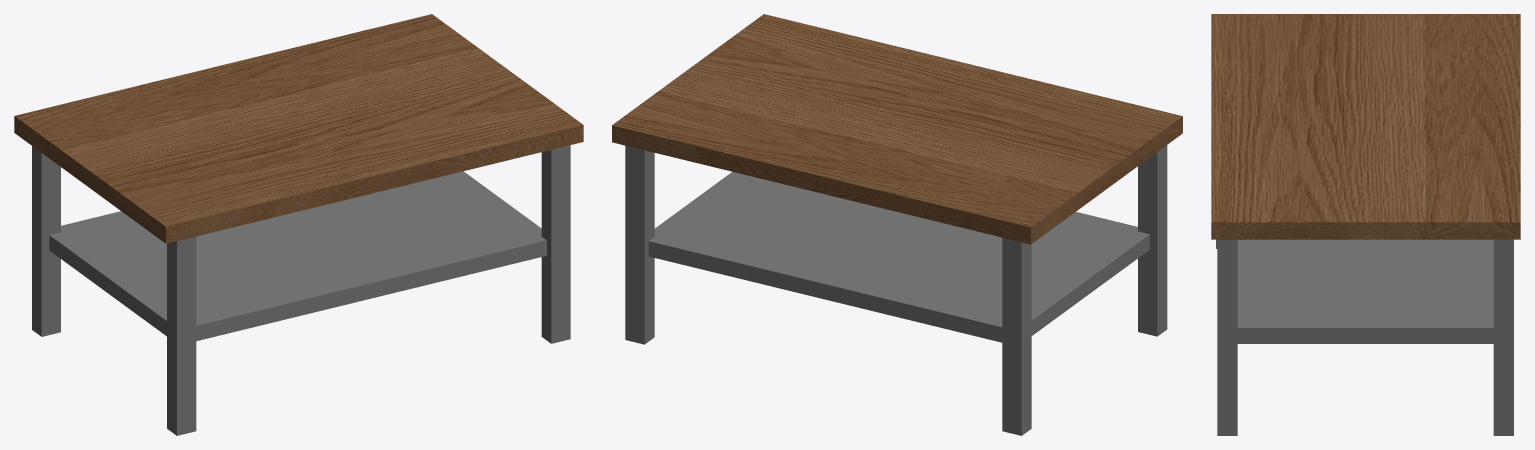
Rendered from BasicTable.fbx.
3 views of the same model, side by side, from view 1: azimuth 30°, elevation 25°; view 2: azimuth 150°, elevation 25°; view 3: azimuth 270°, elevation 25° (orthographic). The views are drawn at different scales.
Visible parts, largest first — view 1: Cube, Cube.001, Cube.002, Cube.005, Cube.003; view 2: Cube, Cube.001, Cube.003, Cube.004, Cube.002; view 3: Cube, Cube.001, Cube.005, Cube.004.
Part boxes in pixels (x1=…): Cube: x1=14, y1=14, x2=583, y2=243; Cube.001: x1=49, y1=171, x2=546, y2=341; Cube.002: x1=167, y1=236, x2=196, y2=435; Cube.005: x1=541, y1=145, x2=570, y2=343; Cube.003: x1=32, y1=146, x2=60, y2=336; Cube: x1=612, y1=14, x2=1182, y2=244; Cube.001: x1=648, y1=172, x2=1149, y2=342; Cube.003: x1=1002, y1=237, x2=1031, y2=435; Cube.004: x1=625, y1=145, x2=654, y2=344; Cube.002: x1=1138, y1=145, x2=1167, y2=336; Cube: x1=1211, y1=14, x2=1520, y2=239; Cube.001: x1=1237, y1=239, x2=1493, y2=343; Cube.005: x1=1217, y1=239, x2=1237, y2=435; Cube.004: x1=1493, y1=239, x2=1513, y2=435.
Bounding box in the file's own units: 861 × 422 × 541.
2 materials, 1 textured.
